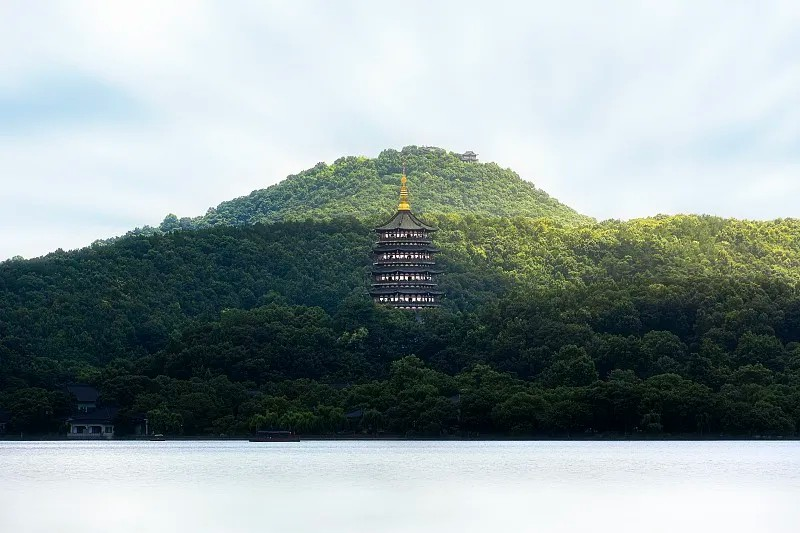Leifeng: (365, 161, 442, 313)
